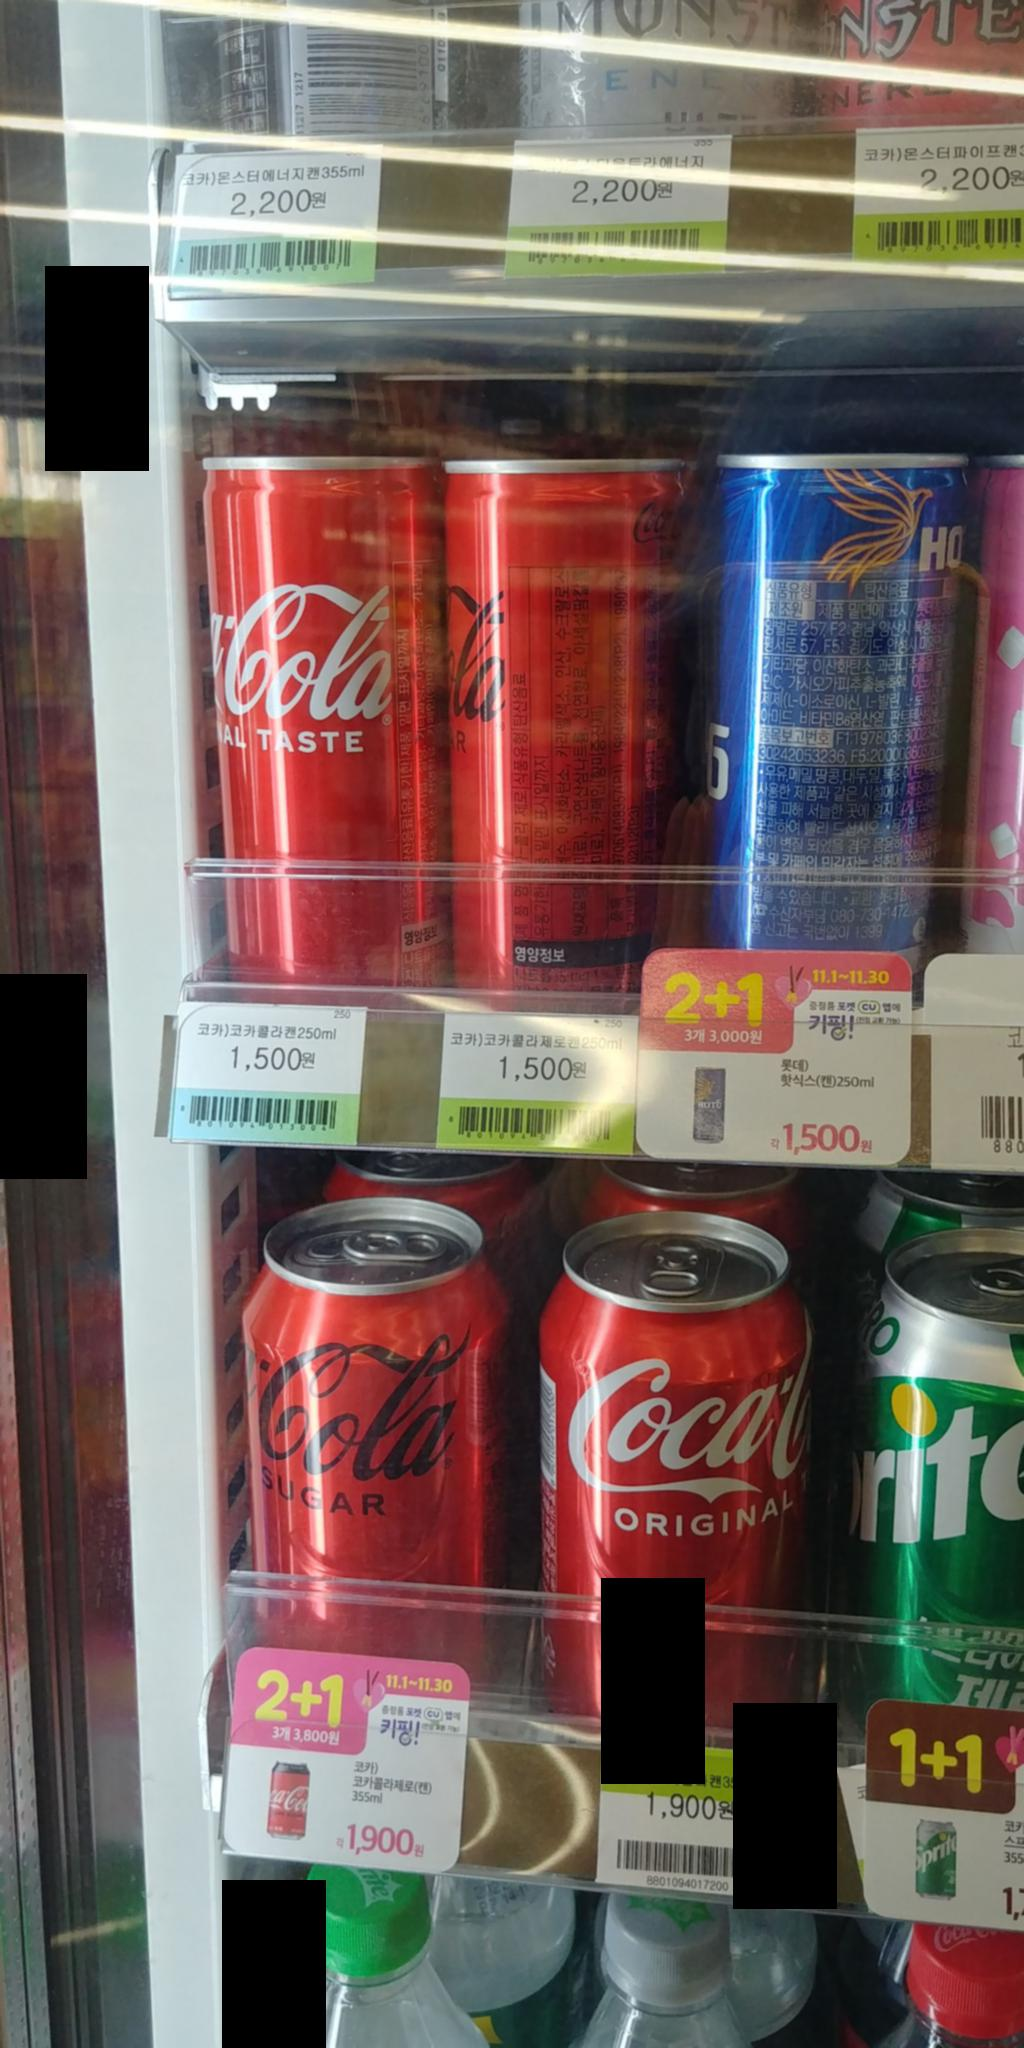cocacola: (533, 1207, 833, 1759)
cocacola_zero: (434, 435, 700, 1011)
hotsix_org: (718, 443, 969, 951)
